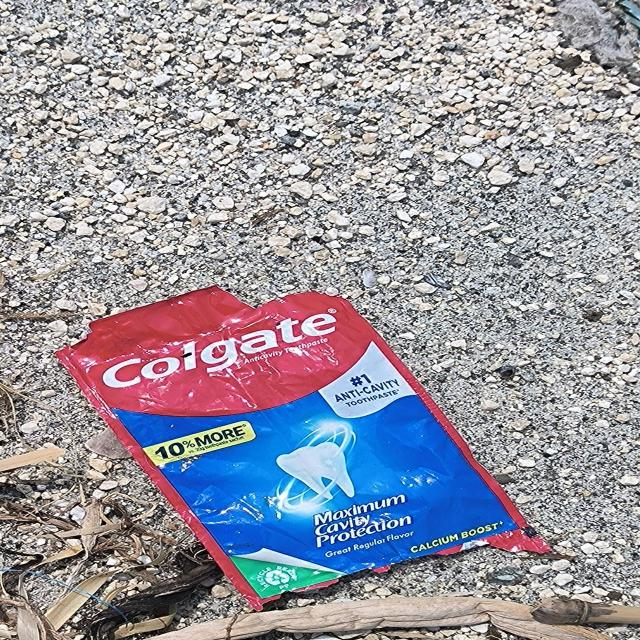plastic_waste: (51, 284, 558, 614)
